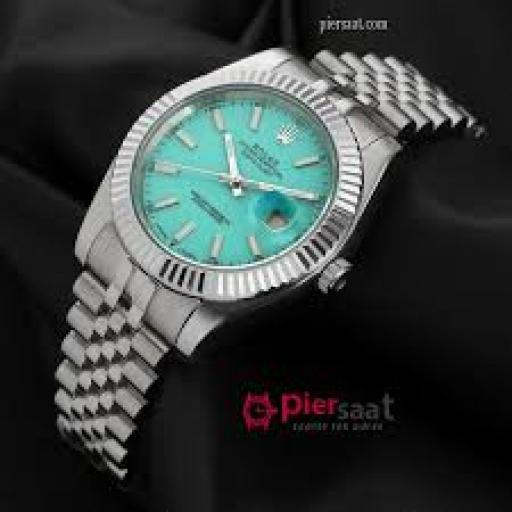KolSaati: (9, 7, 497, 482)
